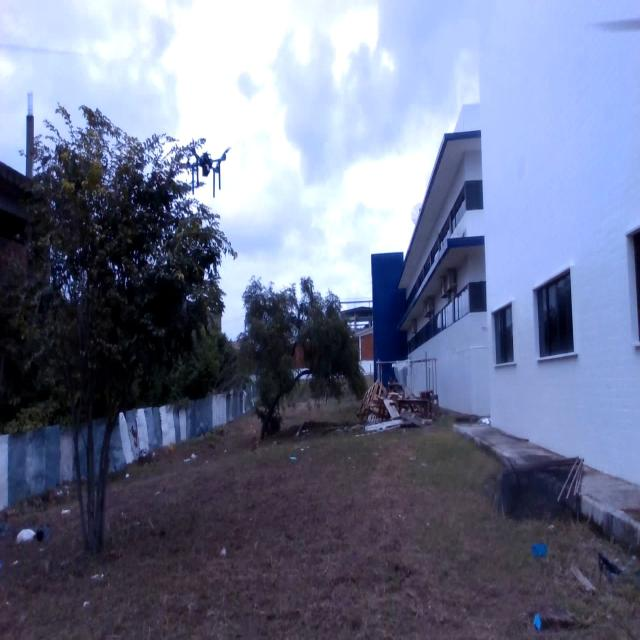-uav-: (176, 126, 238, 206)
